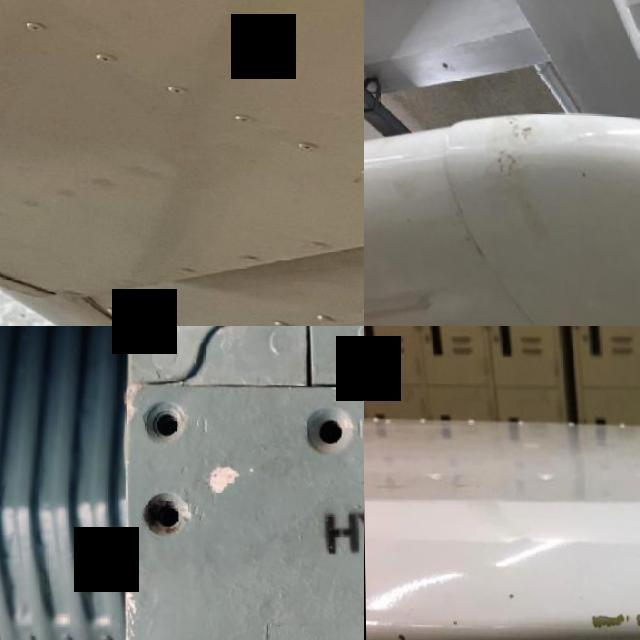Crack: (477, 116, 556, 206), (567, 574, 640, 640), (365, 614, 432, 640)
Missing_Fastener: (118, 358, 220, 468), (115, 460, 218, 565), (281, 367, 364, 484)
